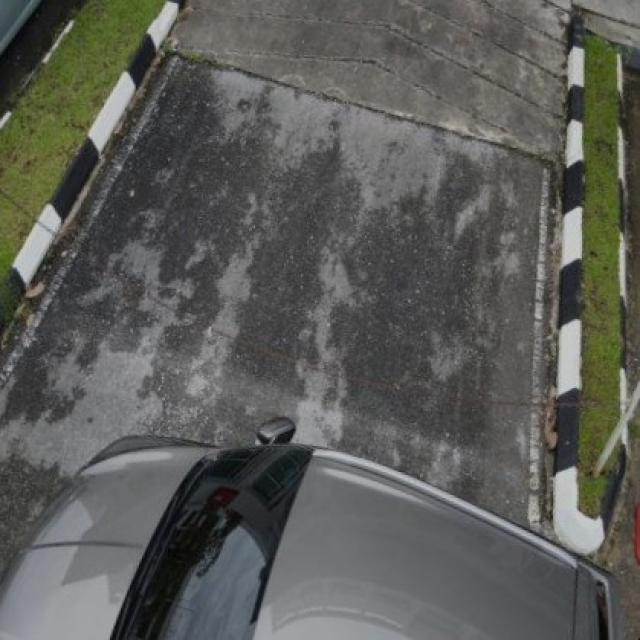illegalparking: (0, 419, 622, 638)
